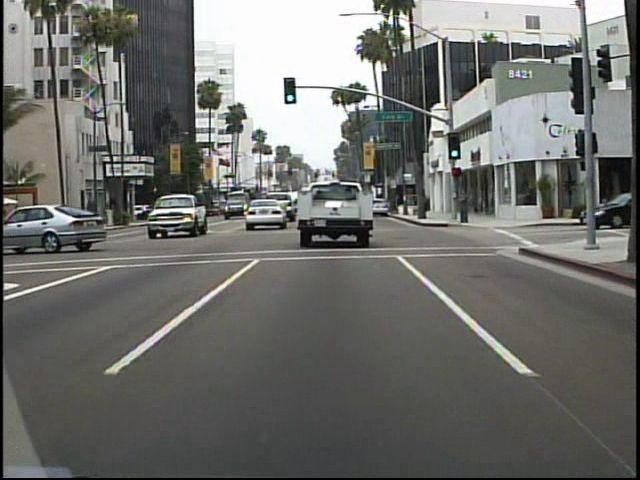person: (454, 181, 472, 226)
